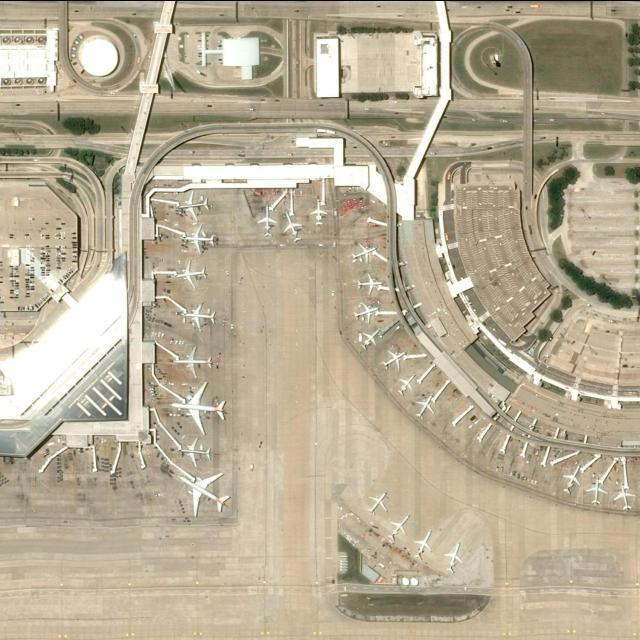Aircraft: (171, 381, 227, 435), (179, 473, 231, 519), (176, 347, 212, 377), (183, 223, 217, 253), (174, 260, 208, 290), (175, 191, 209, 219), (183, 303, 217, 331), (179, 439, 213, 467), (351, 239, 379, 265), (561, 463, 583, 495), (258, 201, 278, 235), (356, 272, 384, 296), (615, 482, 637, 512), (386, 517, 409, 545), (364, 492, 392, 515), (445, 541, 465, 573), (382, 348, 408, 372), (588, 477, 608, 508), (282, 213, 304, 241), (354, 301, 382, 323), (415, 530, 435, 560), (311, 198, 331, 226), (397, 372, 418, 398), (415, 396, 437, 420), (361, 329, 383, 349)
